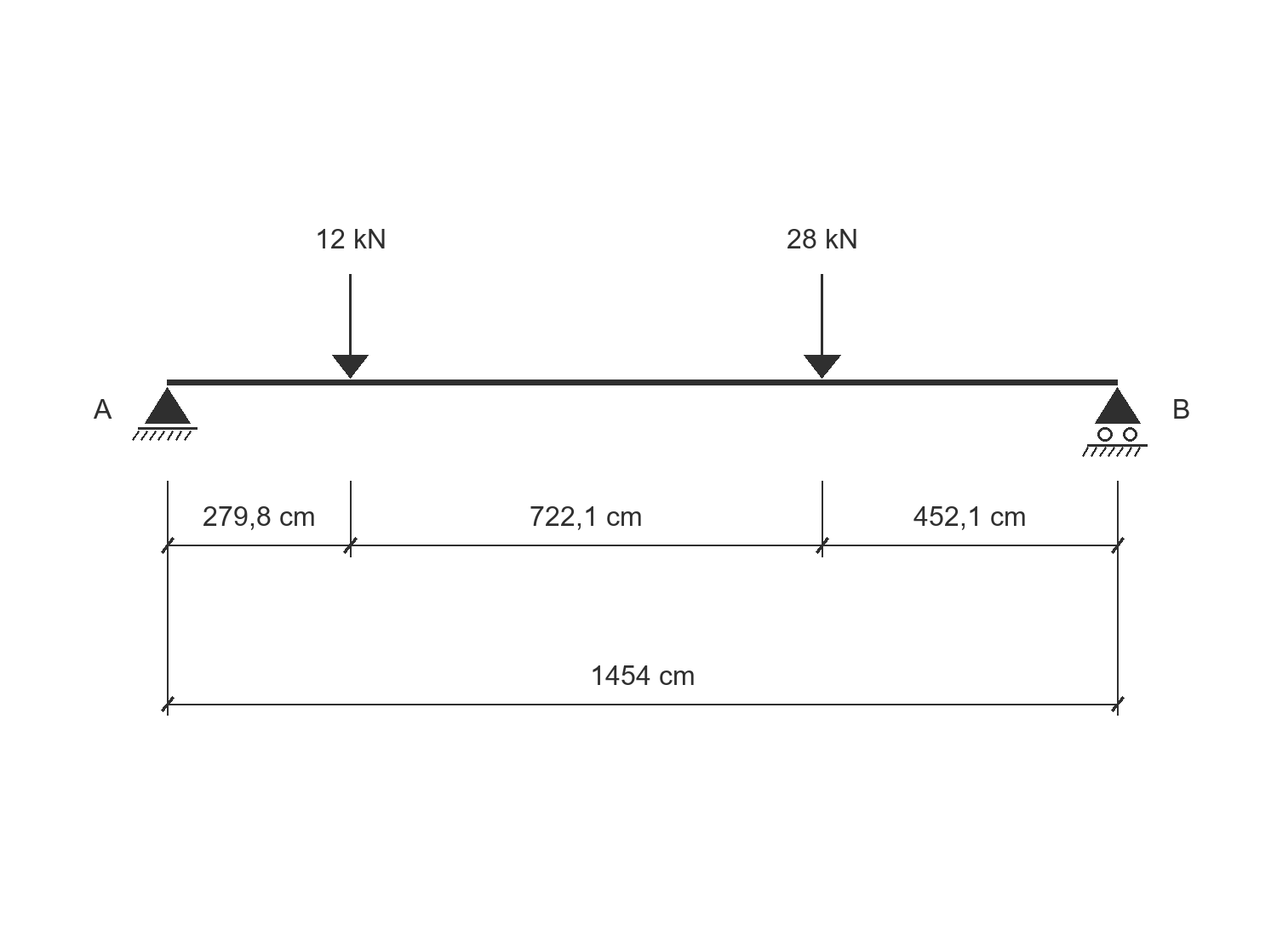pin_support: (132, 387, 198, 441)
point_load: (332, 274, 369, 379), (804, 274, 841, 379)
roller_support: (1082, 387, 1148, 457)
